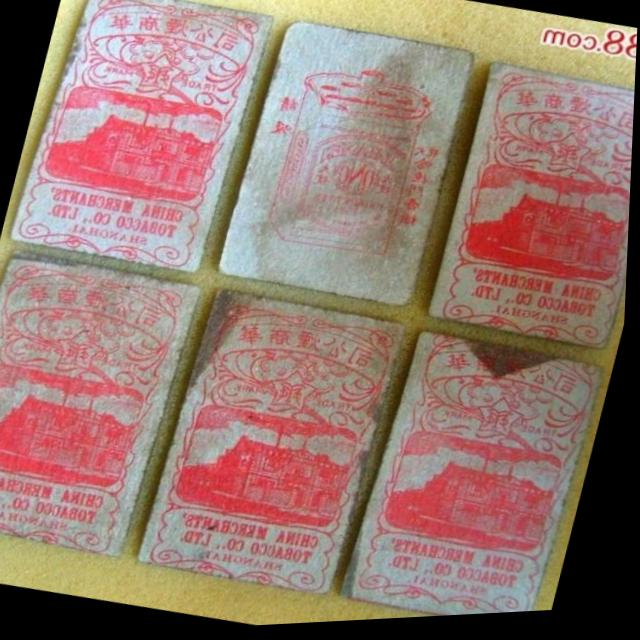box: (142, 292, 408, 598), (341, 335, 607, 621), (220, 24, 474, 310), (12, 0, 275, 275), (0, 253, 203, 558), (430, 68, 636, 356)
